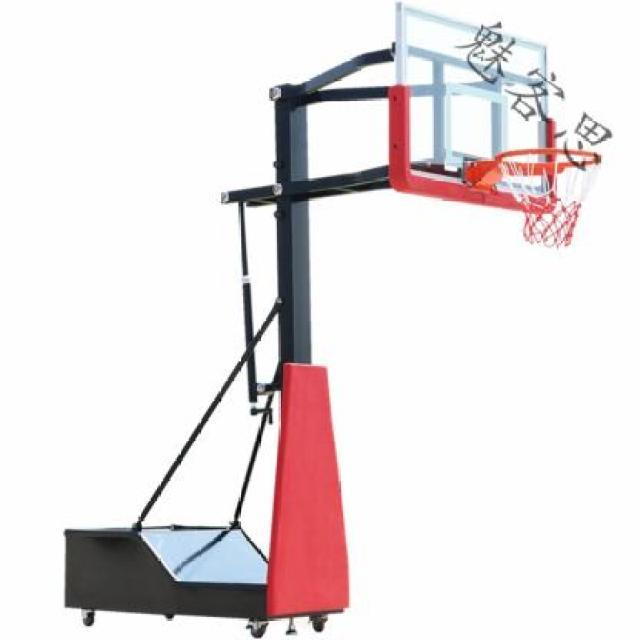rim: (492, 150, 604, 246)
